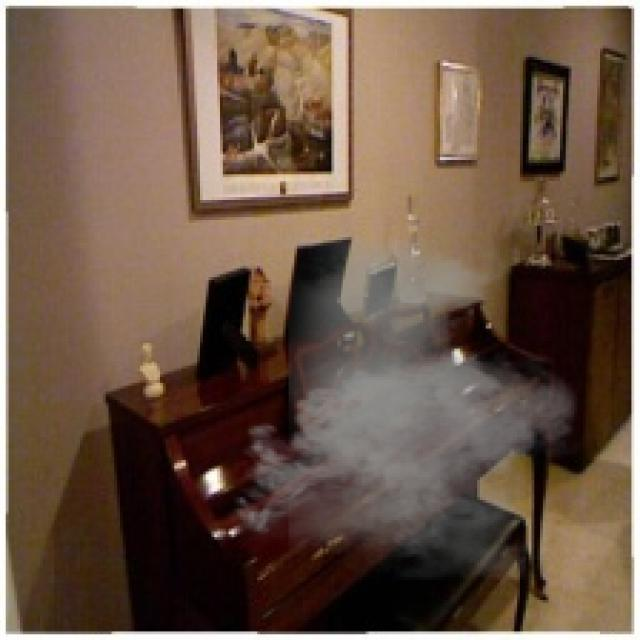smoke: (223, 234, 591, 580)
